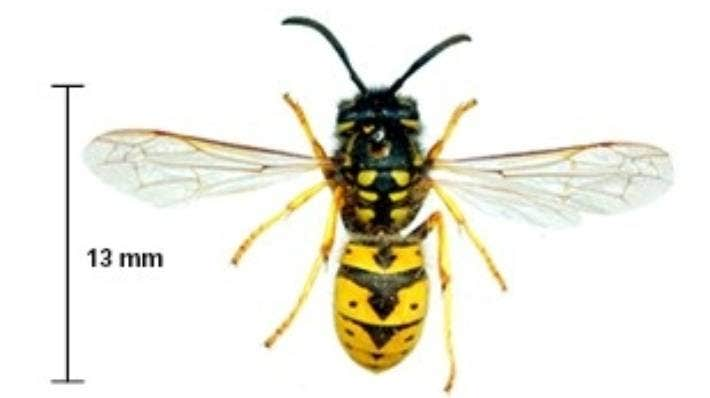chax: (176, 5, 685, 396)
